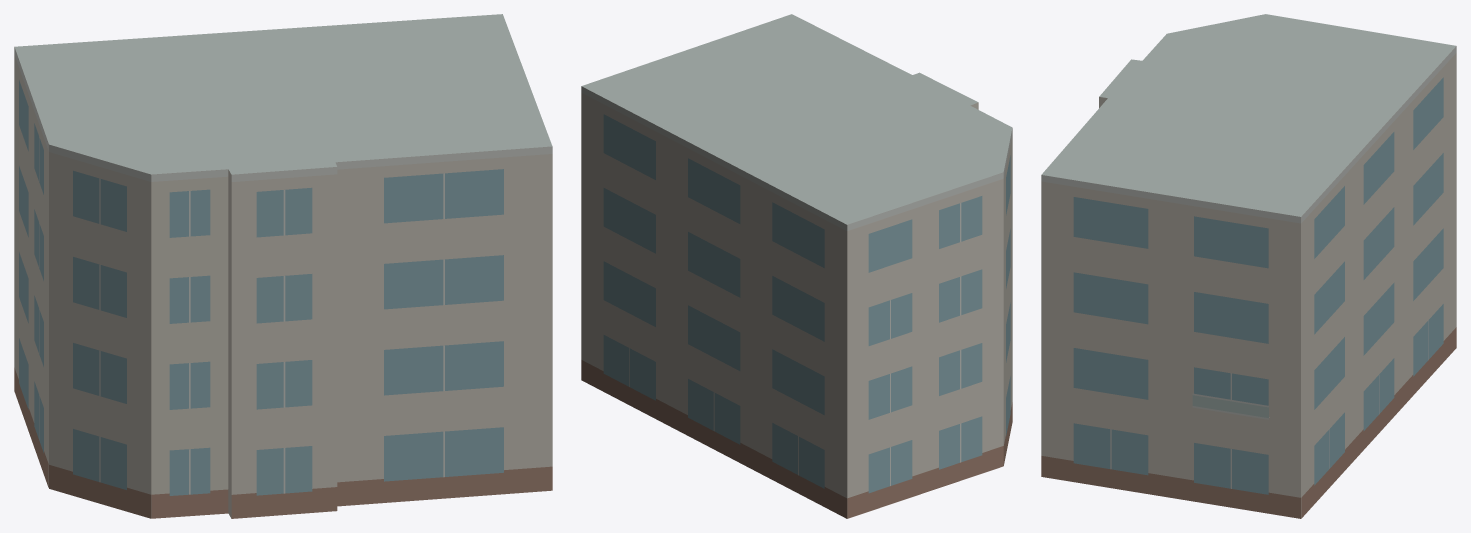
The model's file is survey-upis-32581942.glb.
The picture shows the model from 3 angles, left to right: view 1: azimuth 30°, elevation 25°; view 2: azimuth 150°, elevation 25°; view 3: azimuth 270°, elevation 25°; orthographic projection. The views are drawn at different scales.
Parts seen in each view (by area): view 1: survey-upis-32581942.tmp; view 2: survey-upis-32581942.tmp; view 3: survey-upis-32581942.tmp.
Part boxes in pixels (x1=…): survey-upis-32581942.tmp: x1=14, y1=14, x2=552, y2=518; survey-upis-32581942.tmp: x1=581, y1=14, x2=1012, y2=518; survey-upis-32581942.tmp: x1=1041, y1=14, x2=1456, y2=518.
Size of the model in its own units: 16.23 by 11.25 by 14.04.
